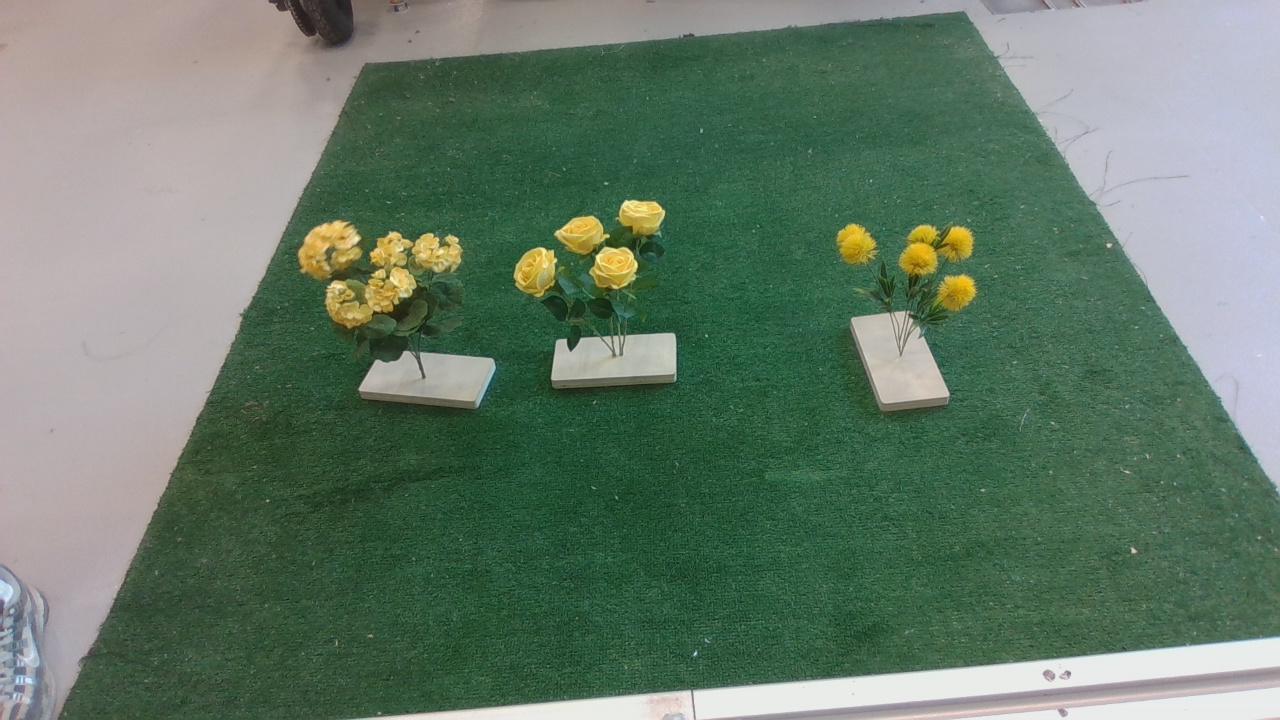dandelion: (824, 209, 989, 344)
geranium: (290, 214, 478, 370)
rose: (514, 192, 688, 351)
